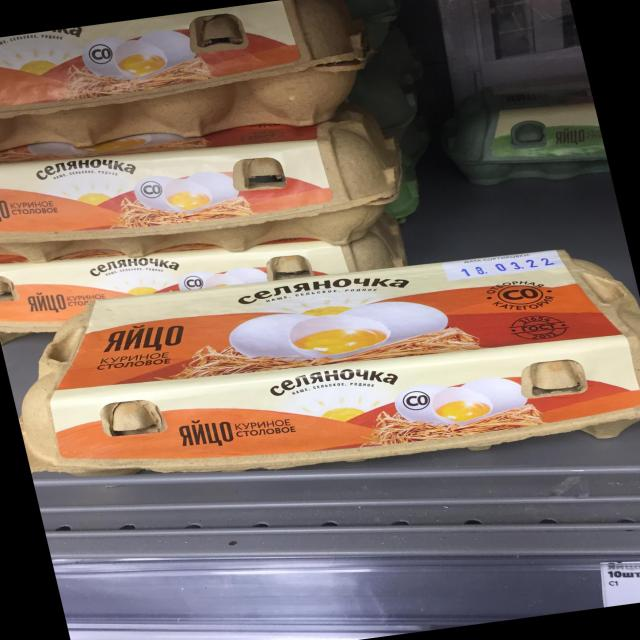organic waste: (0, 230, 640, 511), (0, 98, 416, 276), (0, 0, 391, 168), (0, 212, 411, 341), (432, 68, 612, 204)
